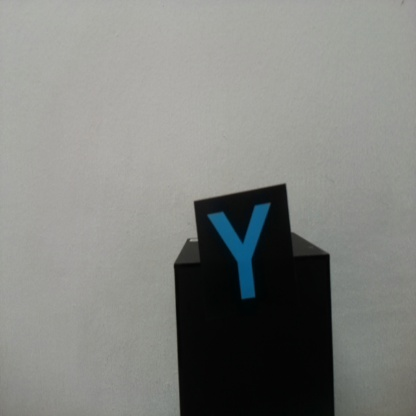id_14: (195, 202, 293, 321)
